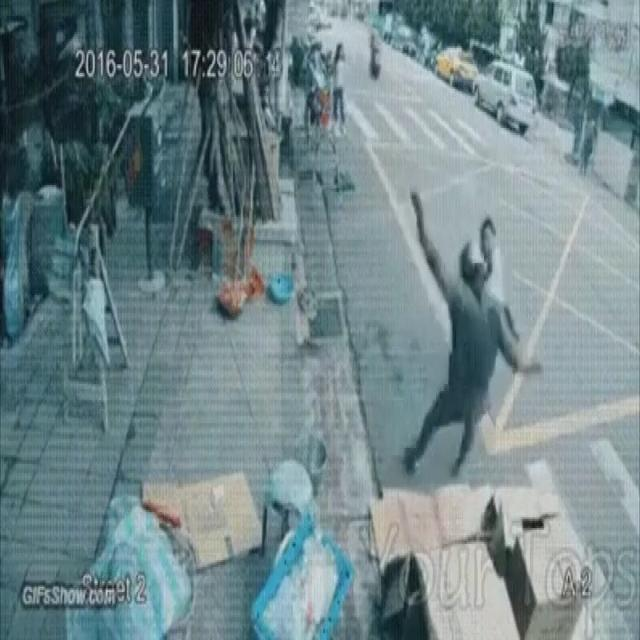fight: (409, 183, 536, 492)
